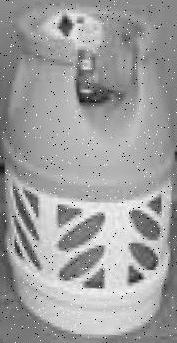cylinder: (1, 1, 177, 343)
